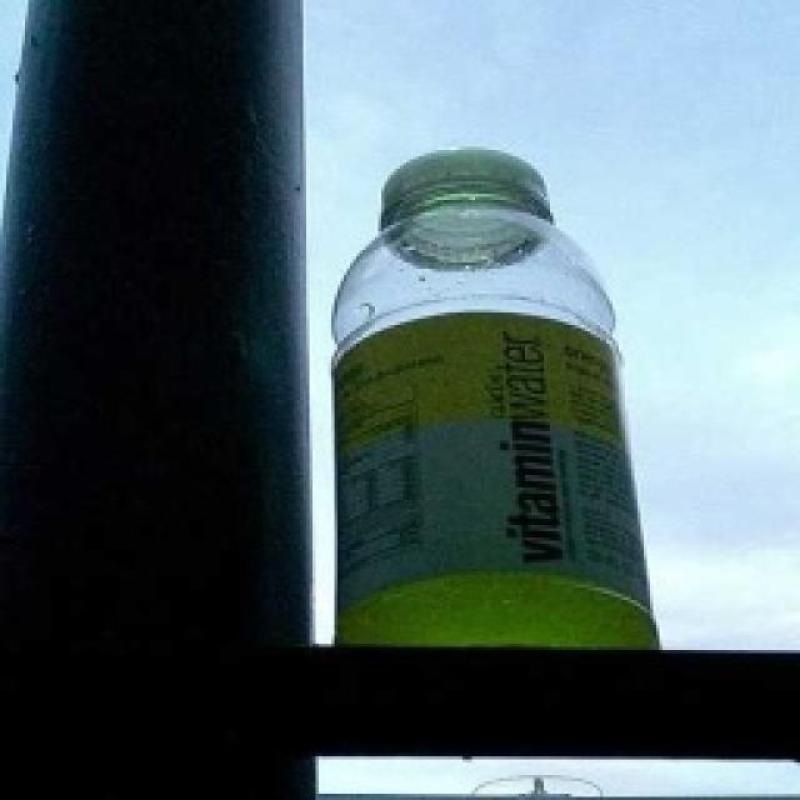botella: (328, 147, 666, 647)
